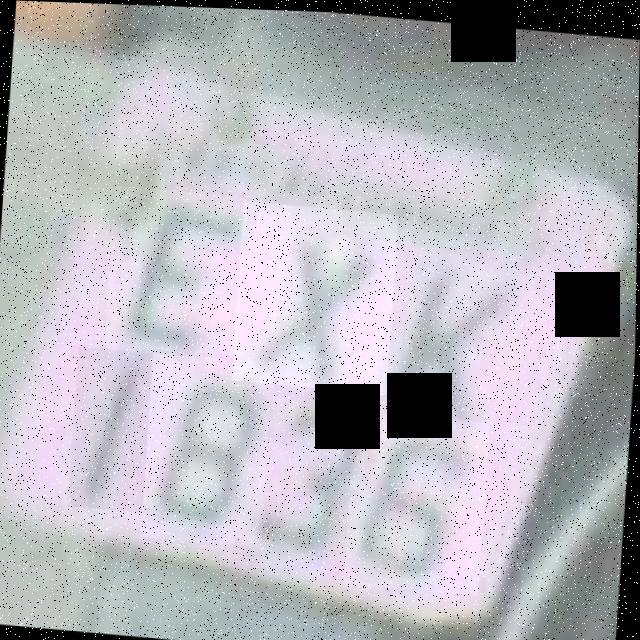1: (69, 346, 154, 512)
3: (234, 383, 389, 570)
6: (345, 408, 491, 592)
8: (142, 351, 274, 546)
E: (105, 185, 248, 356)
X: (233, 199, 399, 392)
